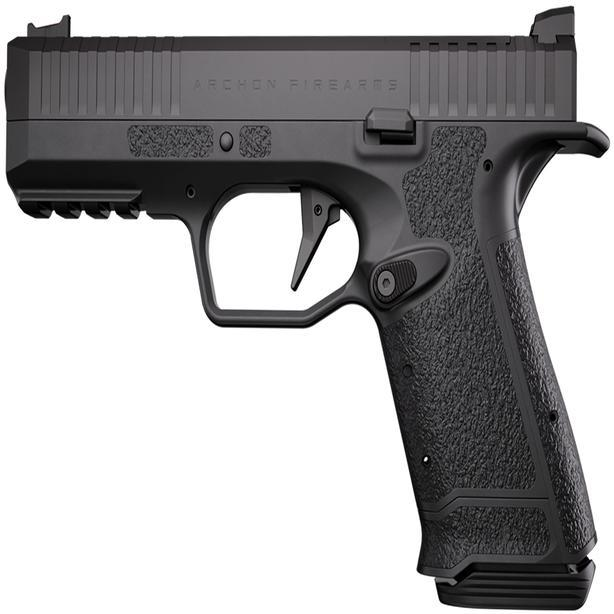Firearm: (4, 12, 600, 614)
